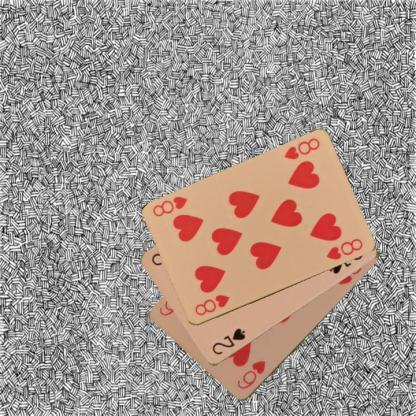2s: (209, 326, 247, 356)
6h: (234, 358, 268, 391)
8h: (282, 136, 322, 162), (192, 292, 230, 318)
